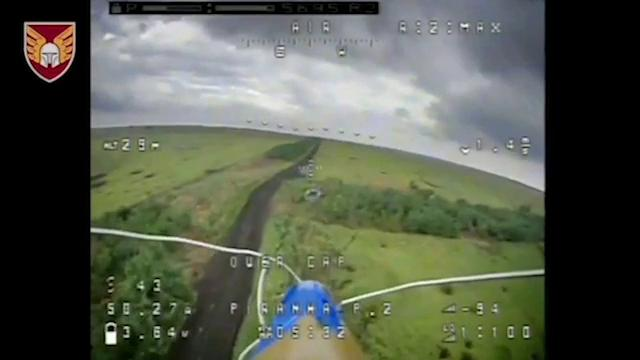tank: (299, 181, 327, 206)
